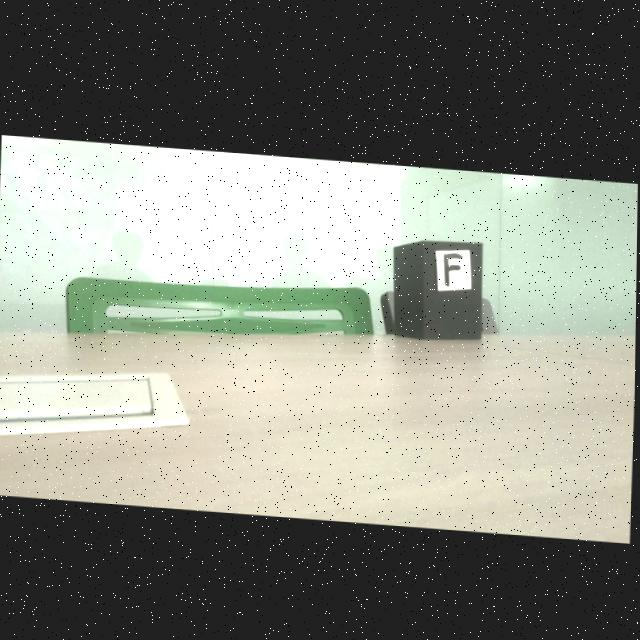F: (445, 248, 462, 279)
